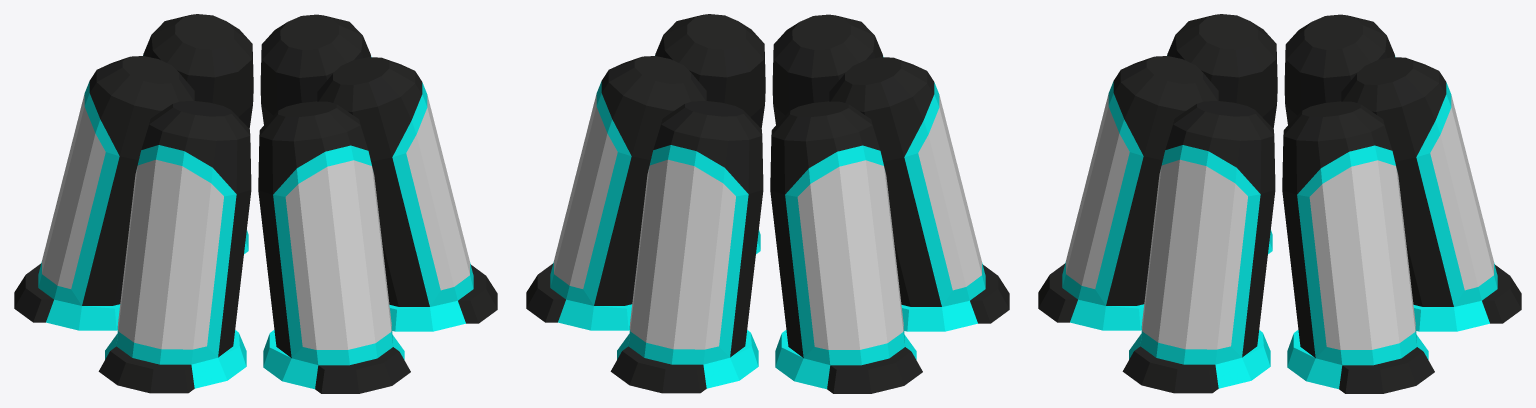
The model's file is Hibernation_Chambers.fbx.
3 views of the same model, side by side, from view 1: azimuth 30°, elevation 25°; view 2: azimuth 150°, elevation 25°; view 3: azimuth 270°, elevation 25° (orthographic).
Visible parts, largest first — view 1: Hibernation_Chambers; view 2: Hibernation_Chambers; view 3: Hibernation_Chambers.
Boxes of the visible parts, x1,y1,x2,y2 form: Hibernation_Chambers: (14,14,497,393); Hibernation_Chambers: (526,14,1009,393); Hibernation_Chambers: (1038,14,1521,393).
Bounding box in the file's own units: 5.63 × 6.2 × 3.35.
